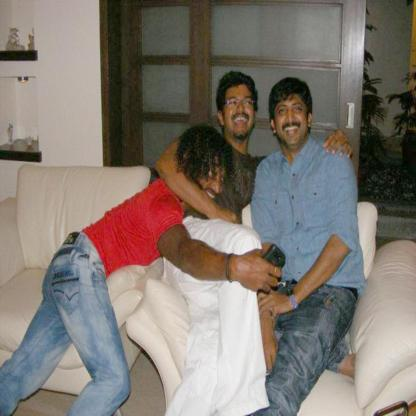face: (193, 146, 227, 209), (276, 91, 309, 144), (226, 86, 255, 139)
